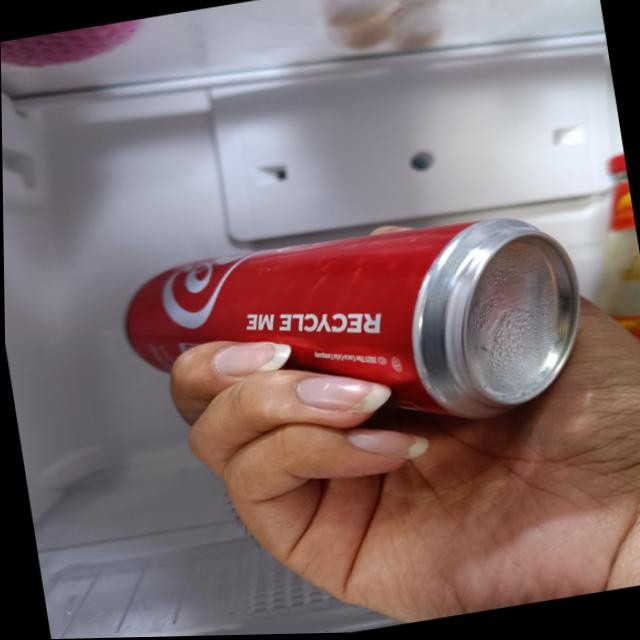coke: (115, 201, 593, 474)
